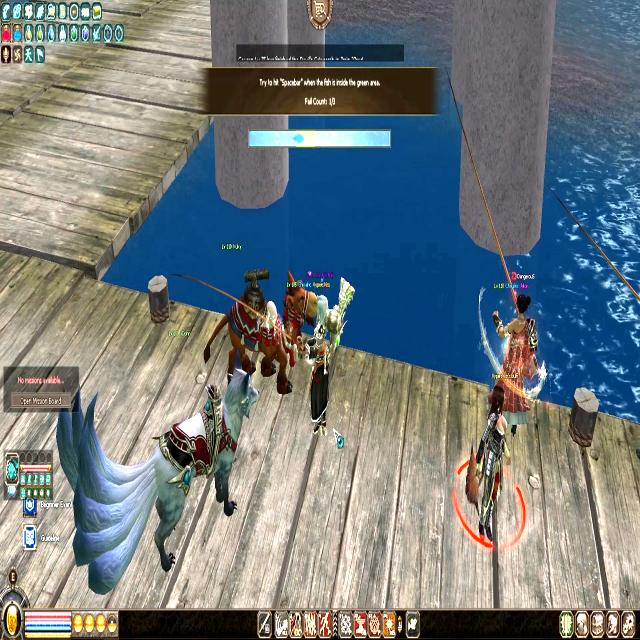fishes: (292, 131, 305, 145)
